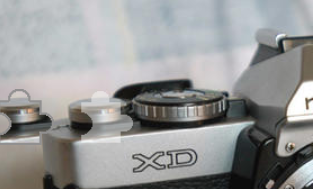target: (76, 87, 139, 152)
